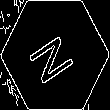N_NE: (27, 25, 83, 85)
